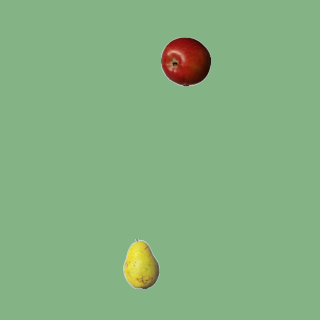Apple Braeburn: (160, 36, 210, 86)
Pear Monster: (116, 238, 166, 288)
